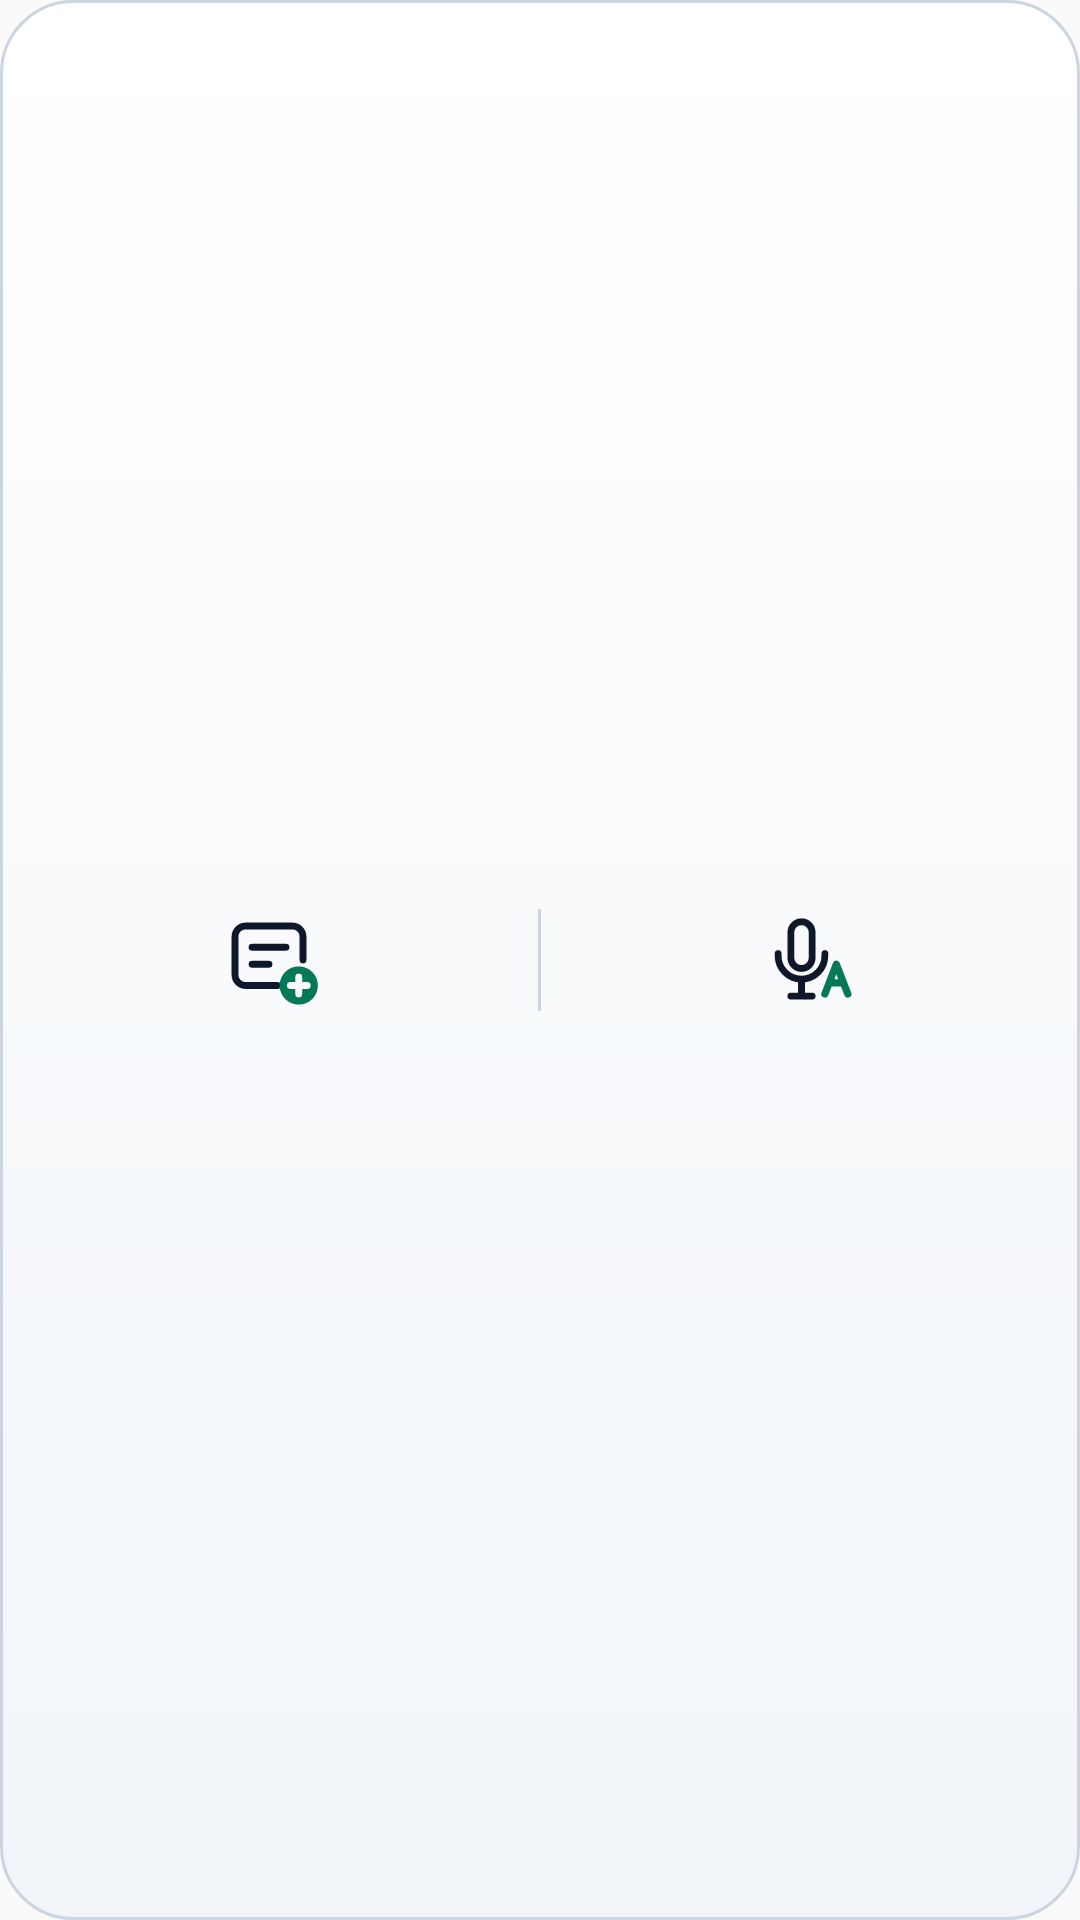

Point at icon controls on the screen. Image size 1080px x 1920px, points as (x=x, y=y).
mic text: (x=813, y=959)
note plus: (x=274, y=963)
